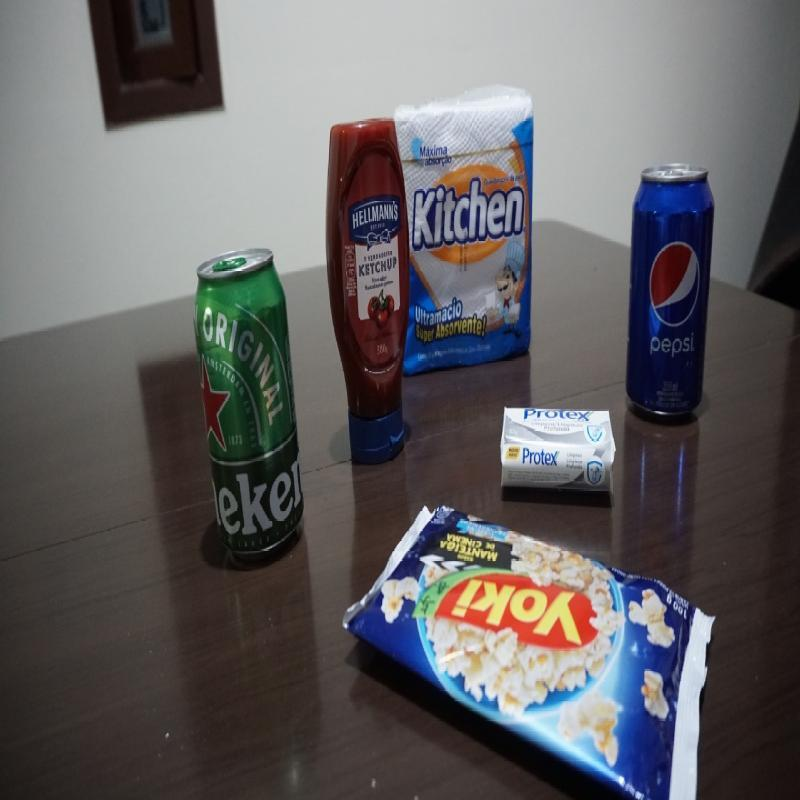Beer can: (190, 247, 306, 567)
Ketchup: (320, 114, 414, 472)
Napkin: (396, 79, 540, 388)
Popcorn: (342, 505, 720, 798)
Soap: (496, 402, 616, 499)
Soda can: (624, 160, 715, 423)
